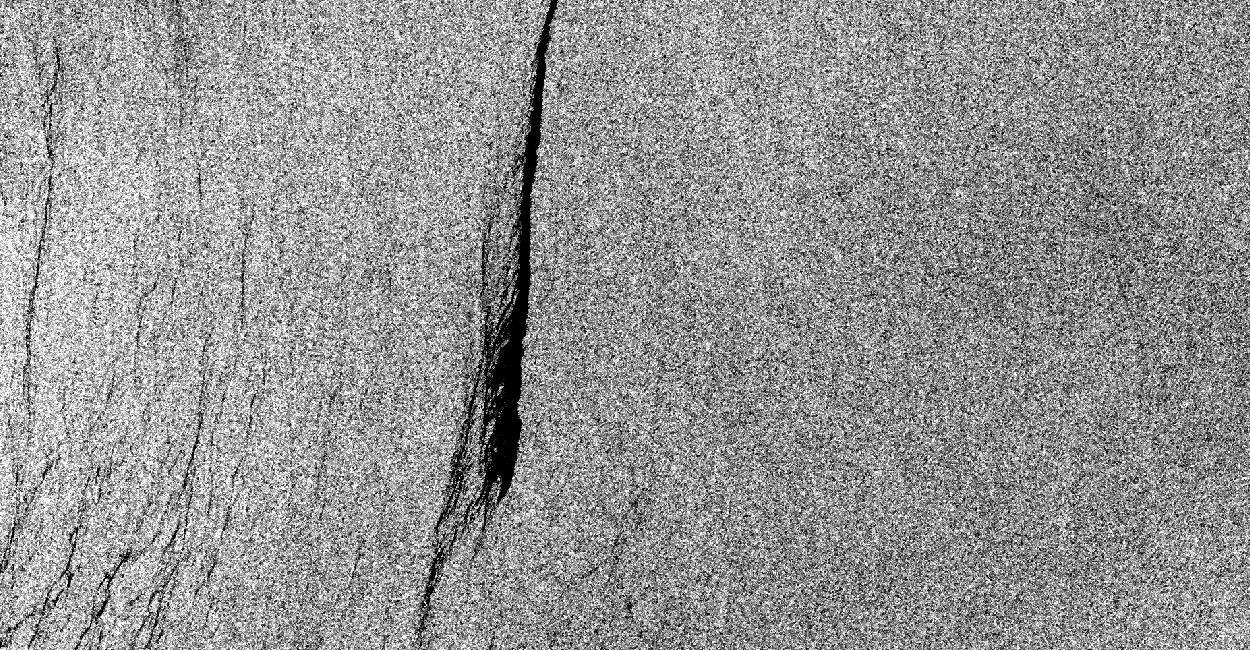Look-alike: (0, 0, 266, 650)
Oil Spill: (408, 0, 560, 648)
